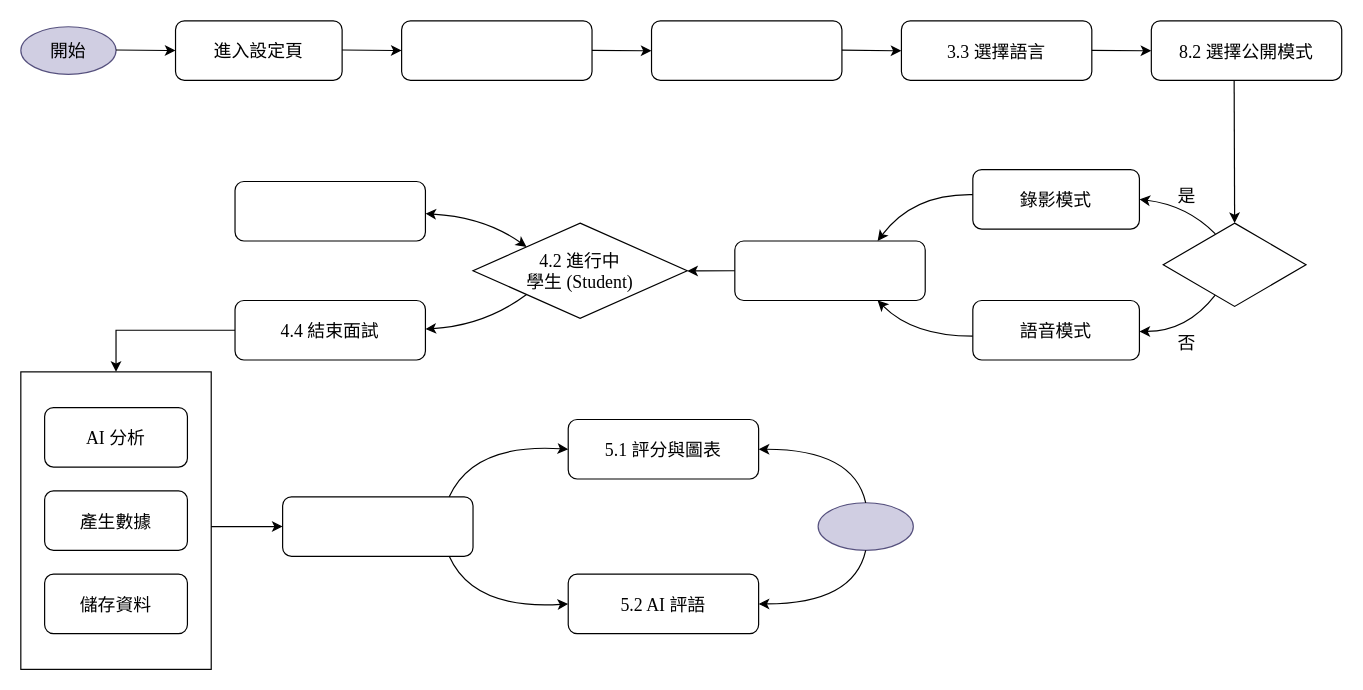
This 1363x690 diagram has some shape labels left out. The centre of each missing label's shape, as x and y in pixels:
3.1 選擇畫面配置: point (496, 50)
3.2 選擇問題: point (746, 50)
3.4 錄影？: point (1234, 264)
4.1 開始面試: point (829, 270)
4.5 調整麥克風: point (329, 210)
結束: point (865, 526)
進入結果頁: point (377, 526)
